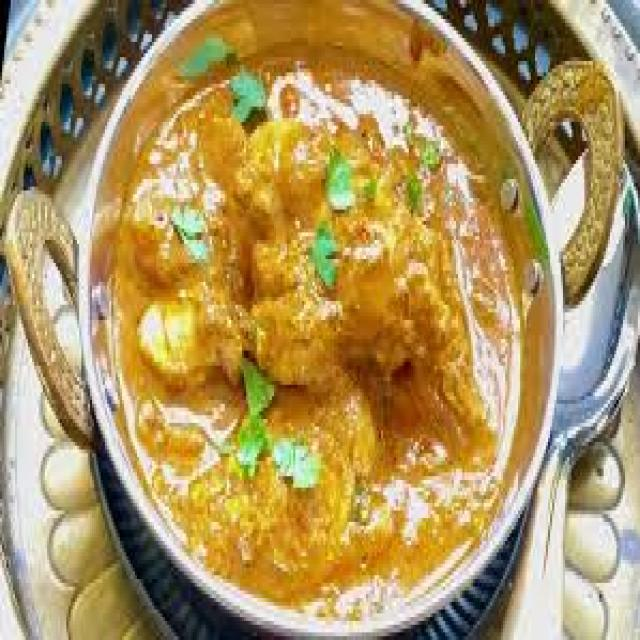Frango: (114, 46, 522, 594)
